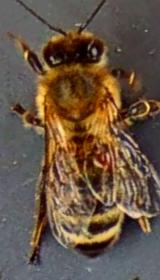varroa_mite: (86, 144, 115, 178)
